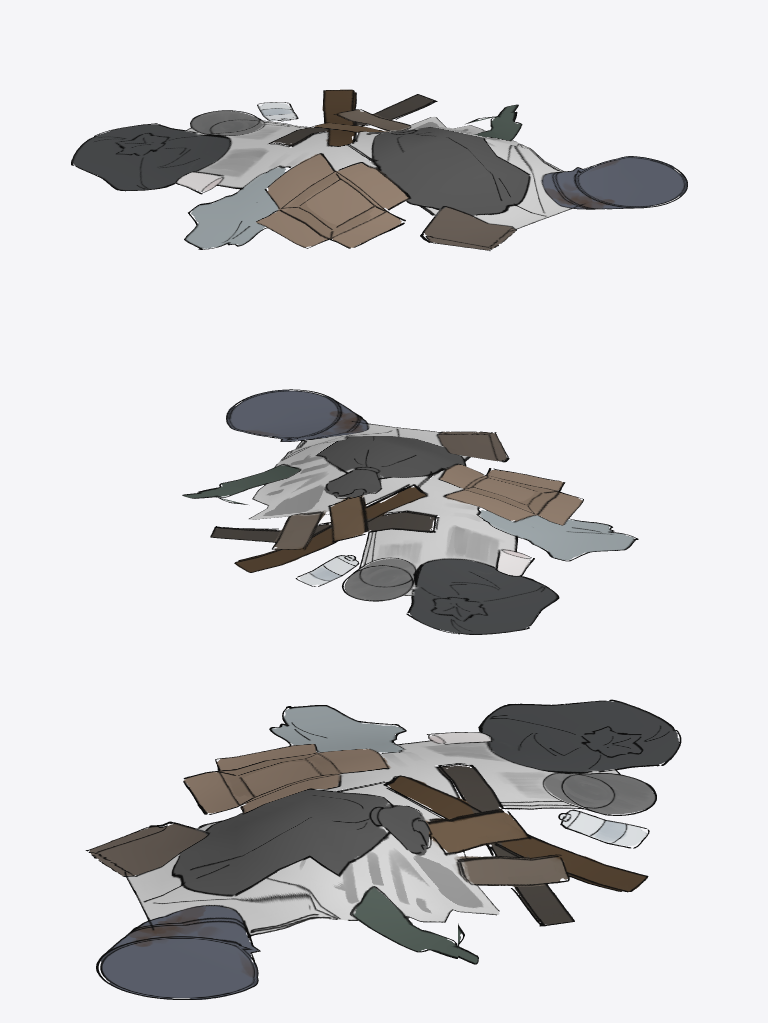
Rendered from Trash_Pile.fbx.
The picture shows the model from 3 angles, top to bottom: view 1: azimuth 30°, elevation 25°; view 2: azimuth 150°, elevation 25°; view 3: azimuth 270°, elevation 25°; orthographic projection. The views are drawn at different scales.
Visible parts, largest first — view 1: pPlane1; view 2: pPlane1; view 3: pPlane1.
Boxes of the visible parts, x1,y1,x2,y2 form: pPlane1: [71, 89, 687, 250]; pPlane1: [182, 389, 638, 634]; pPlane1: [85, 699, 681, 999].
Bounding box in the file's own units: 20.63 × 1.86 × 20.63.
